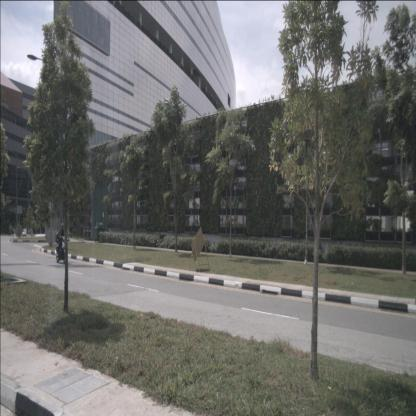vehicle-motorcycle: (54, 223, 70, 264)
